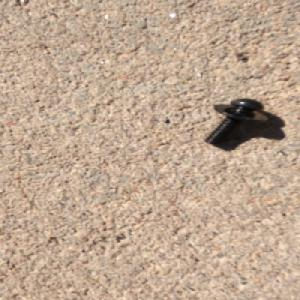BoltWasher: (203, 95, 270, 147)
